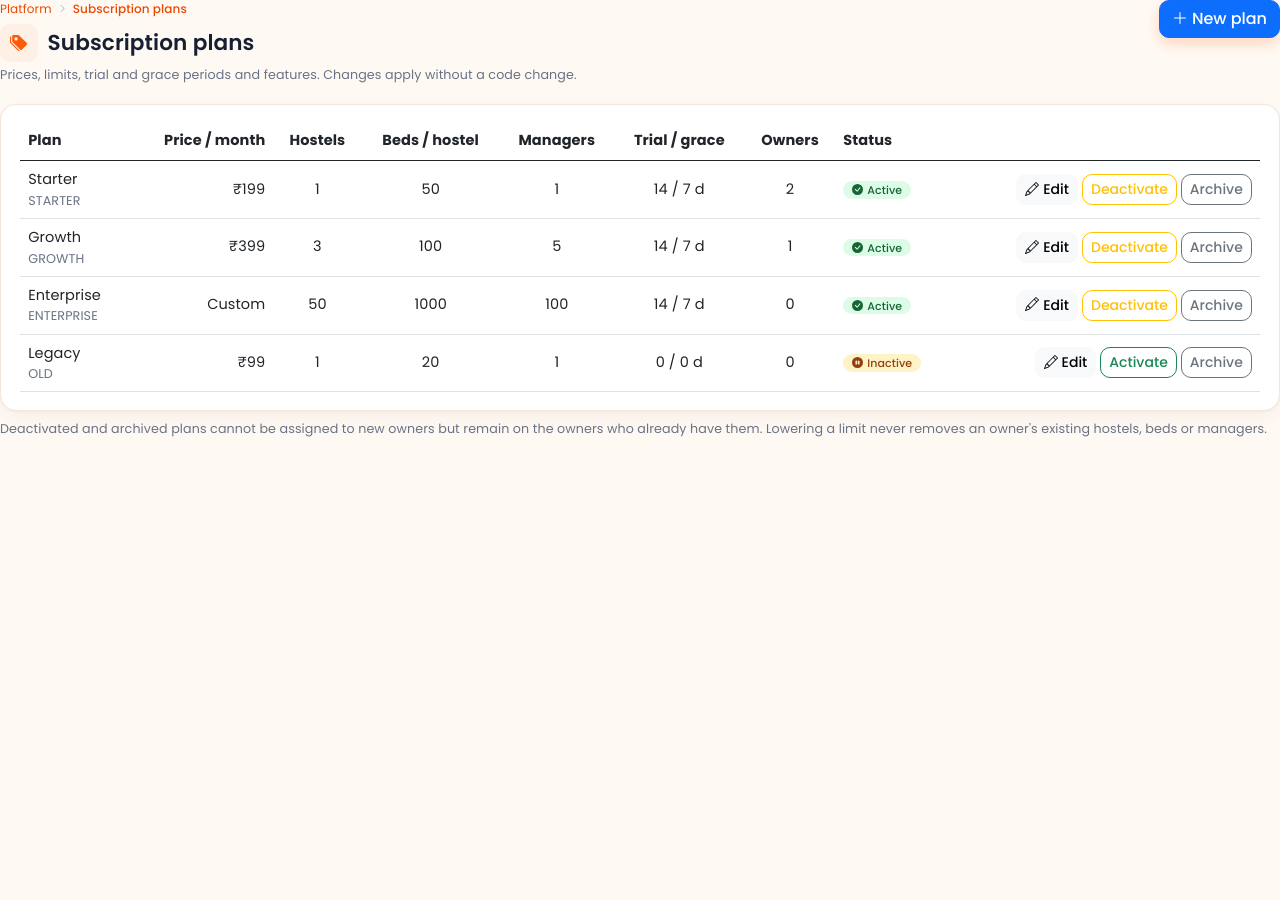
Test: a server error while saving is shown in the dialog
Click the button "Edit" in the row of "₹199": (1047, 190) [1016,174,1078,205]
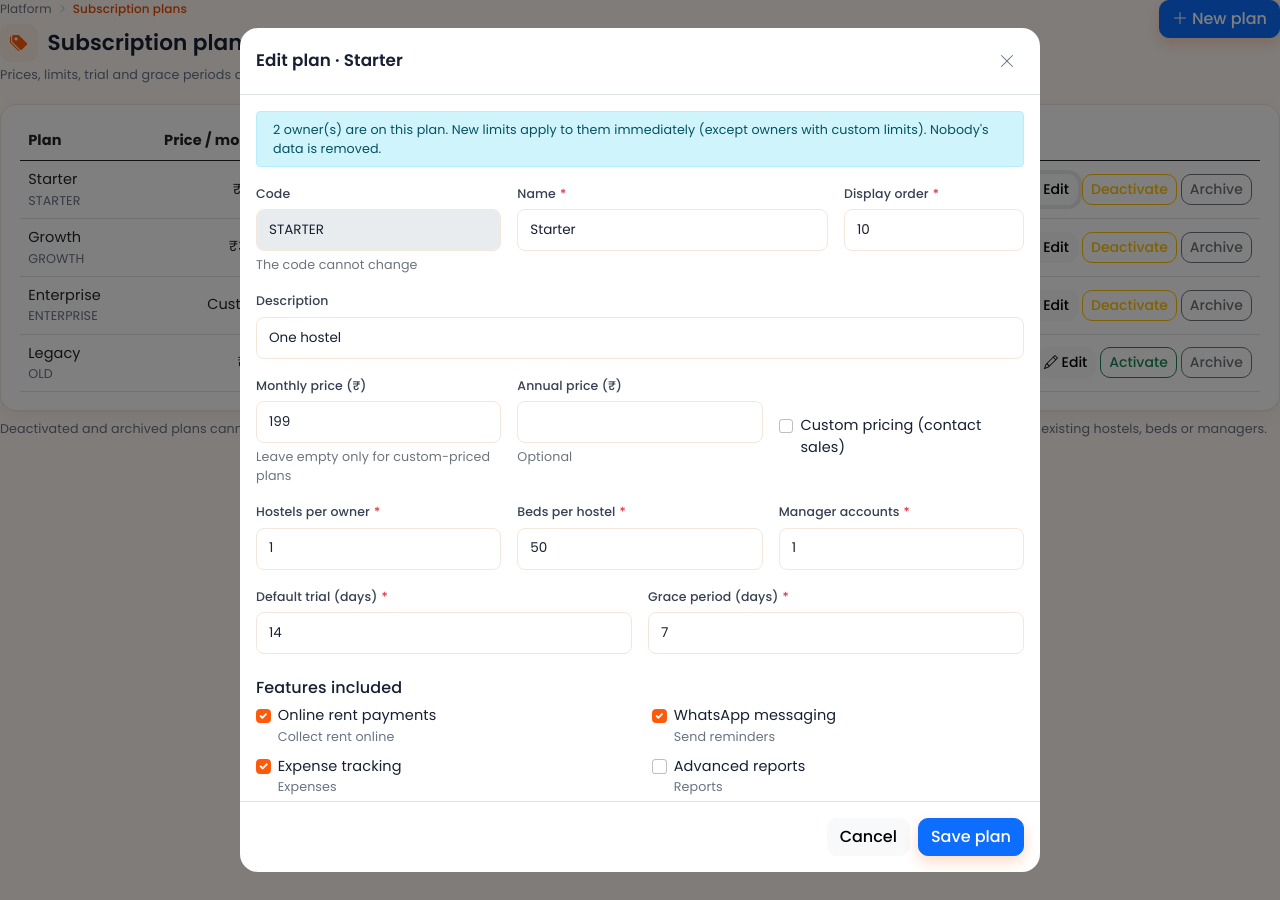
Click the button "Save plan": (971, 837) [918,818,1024,856]
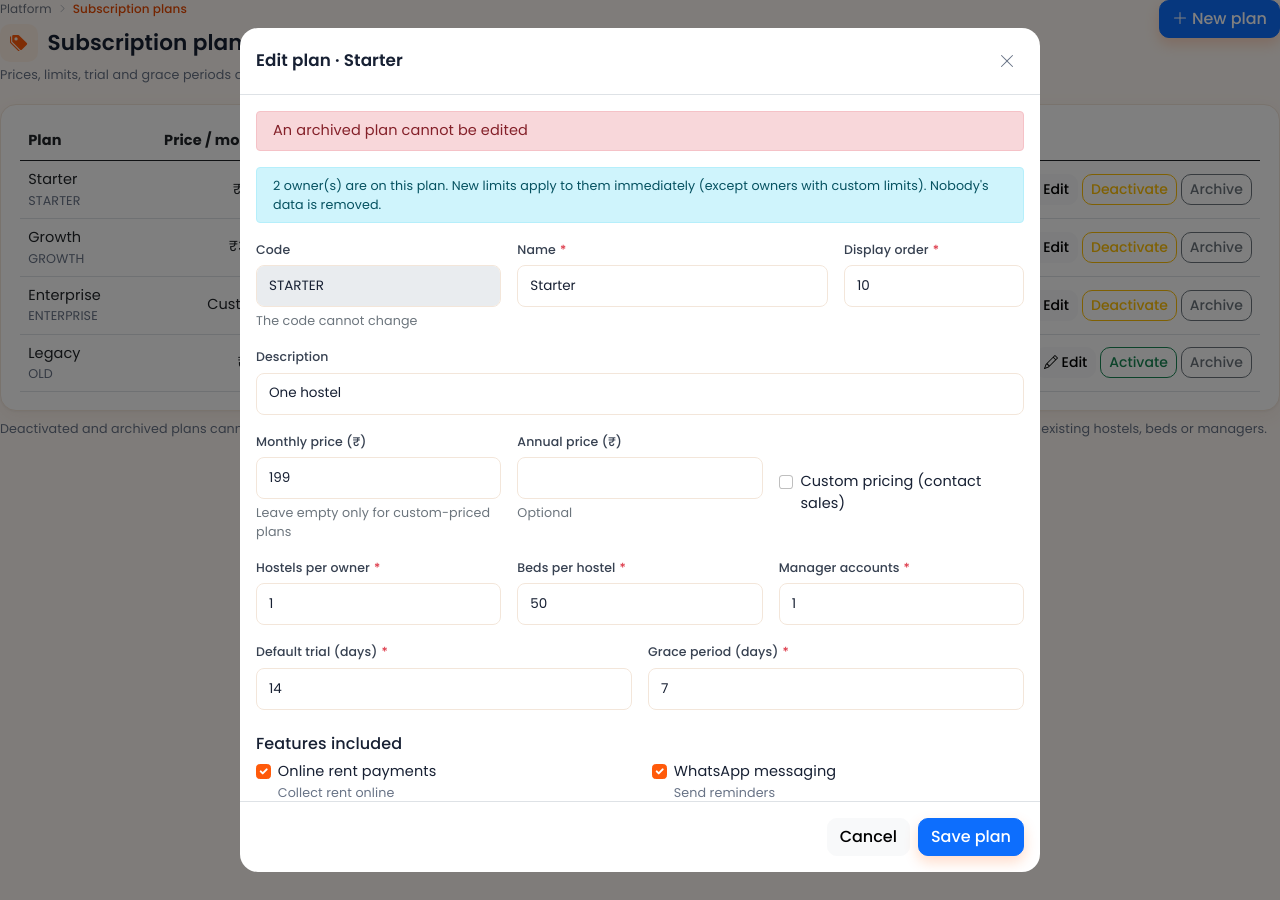
Now the text "An archived plan cannot be edited" is shown, box [256,111,1024,151]
